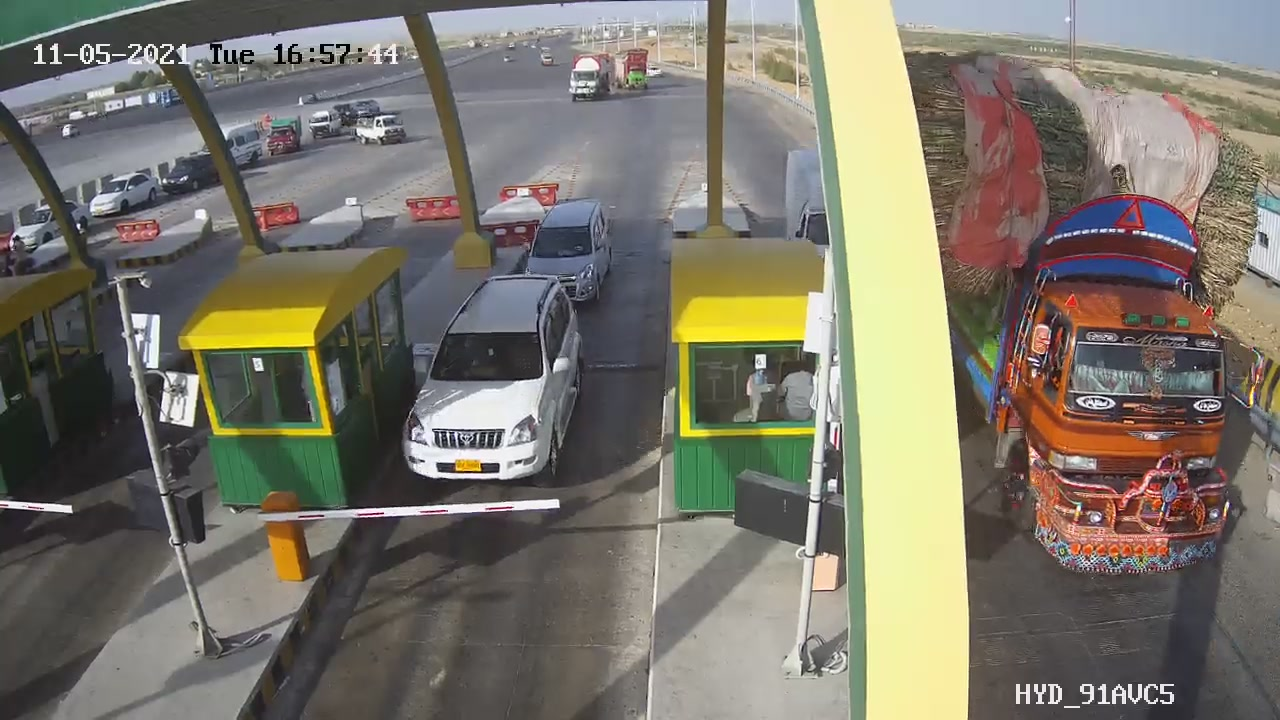F1: (380, 259, 615, 497), (506, 186, 628, 315)
